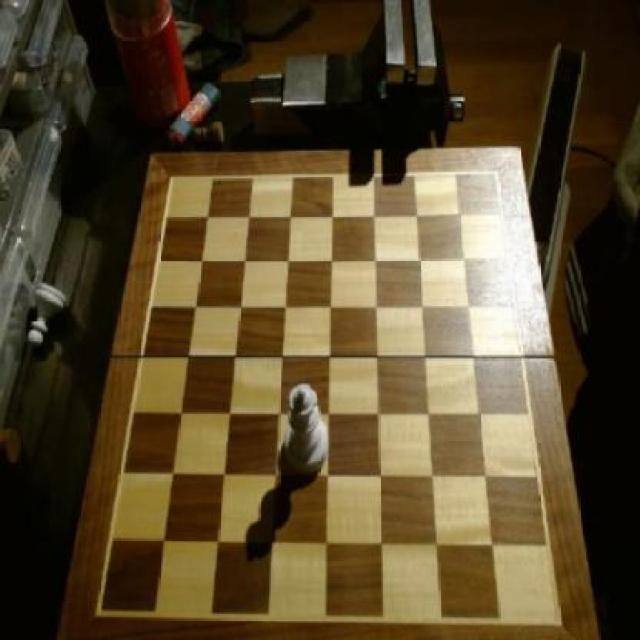white-pawn: (286, 385, 331, 473)
